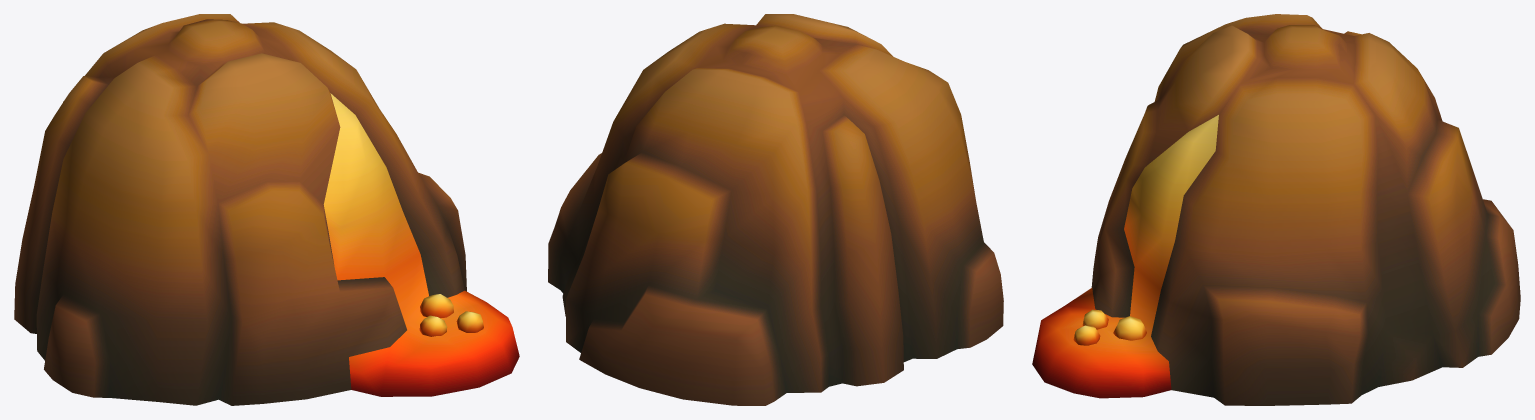
File: m_Rock05_B.fbx
3 views of the same model, side by side, from view 1: azimuth 30°, elevation 25°; view 2: azimuth 150°, elevation 25°; view 3: azimuth 270°, elevation 25° (orthographic). The views are drawn at different scales.
Visible parts, largest first — view 1: m_Rock05_B; view 2: m_Rock05_B; view 3: m_Rock05_B.
Boxes of the visible parts, x1,y1,x2,y2 form: m_Rock05_B: (14,14,519,405); m_Rock05_B: (548,14,1003,405); m_Rock05_B: (1032,14,1520,405).
Bounding box in the file's own units: 630 × 424 × 690.
